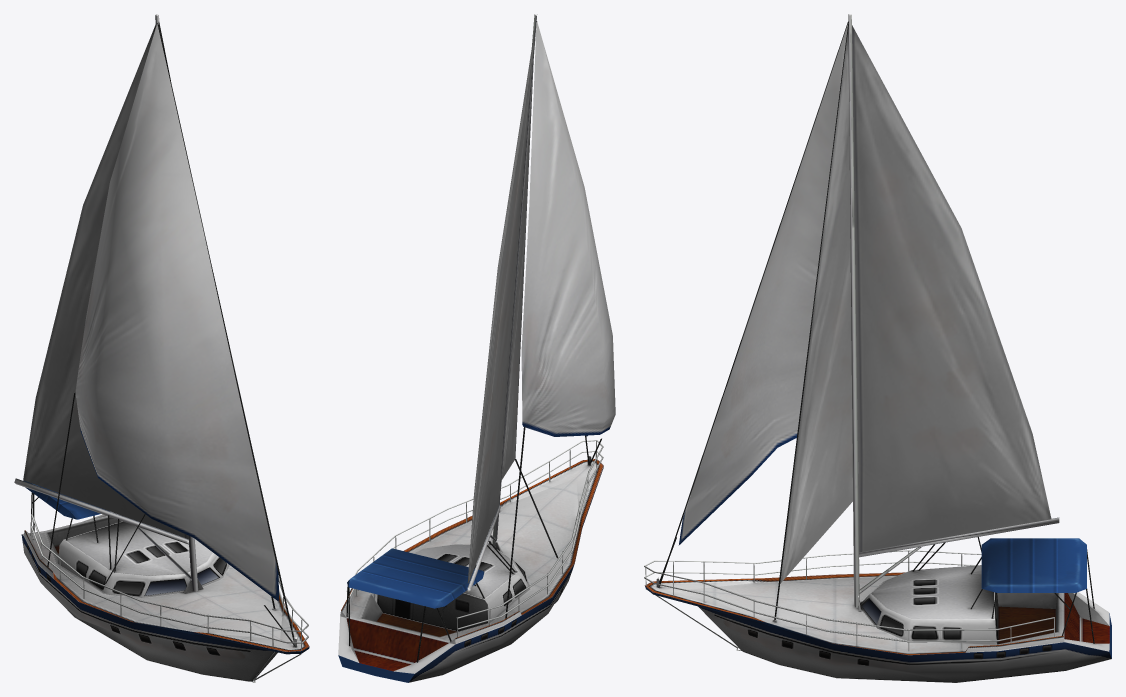
File: SailBoat_A.fbx
3 views of the same model, side by side, from view 1: azimuth 30°, elevation 25°; view 2: azimuth 150°, elevation 25°; view 3: azimuth 270°, elevation 25° (orthographic). The views are drawn at different scales.
Visible parts, largest first — view 1: SailBoat_A; view 2: SailBoat_A; view 3: SailBoat_A.
Part boxes in pixels (x1,y1,x2,y2): SailBoat_A: (14, 14, 309, 682); SailBoat_A: (338, 14, 615, 682); SailBoat_A: (644, 14, 1111, 682).
Bounding box in the file's own units: 10.43 × 32.86 × 22.16.
